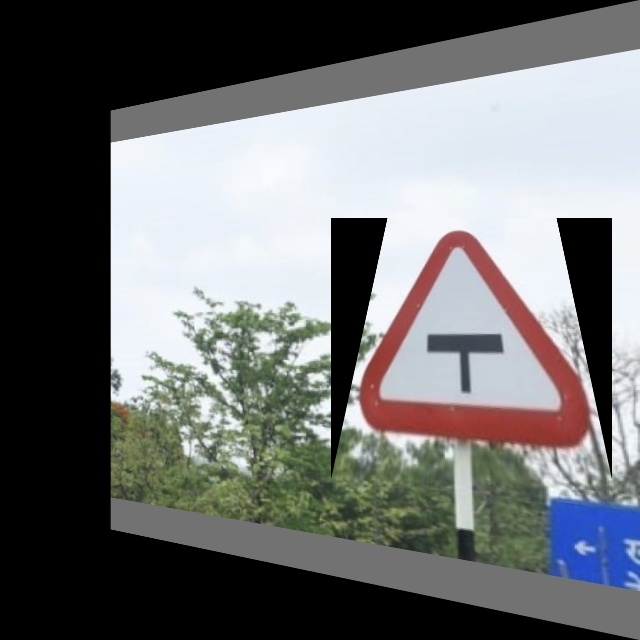T_Intersection: (331, 218, 612, 480)
